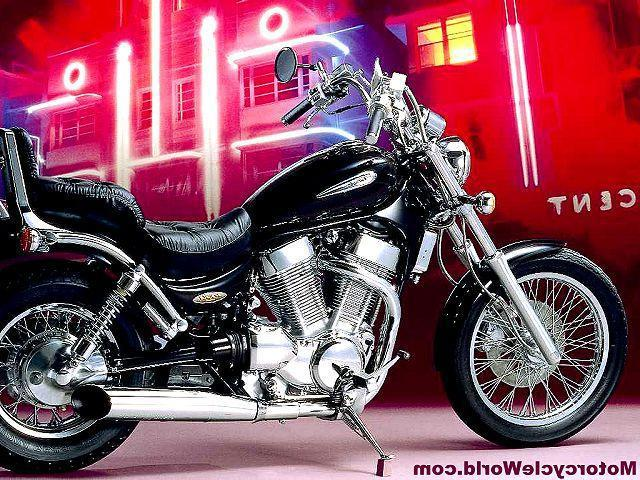motorcycle: (2, 44, 640, 479)
